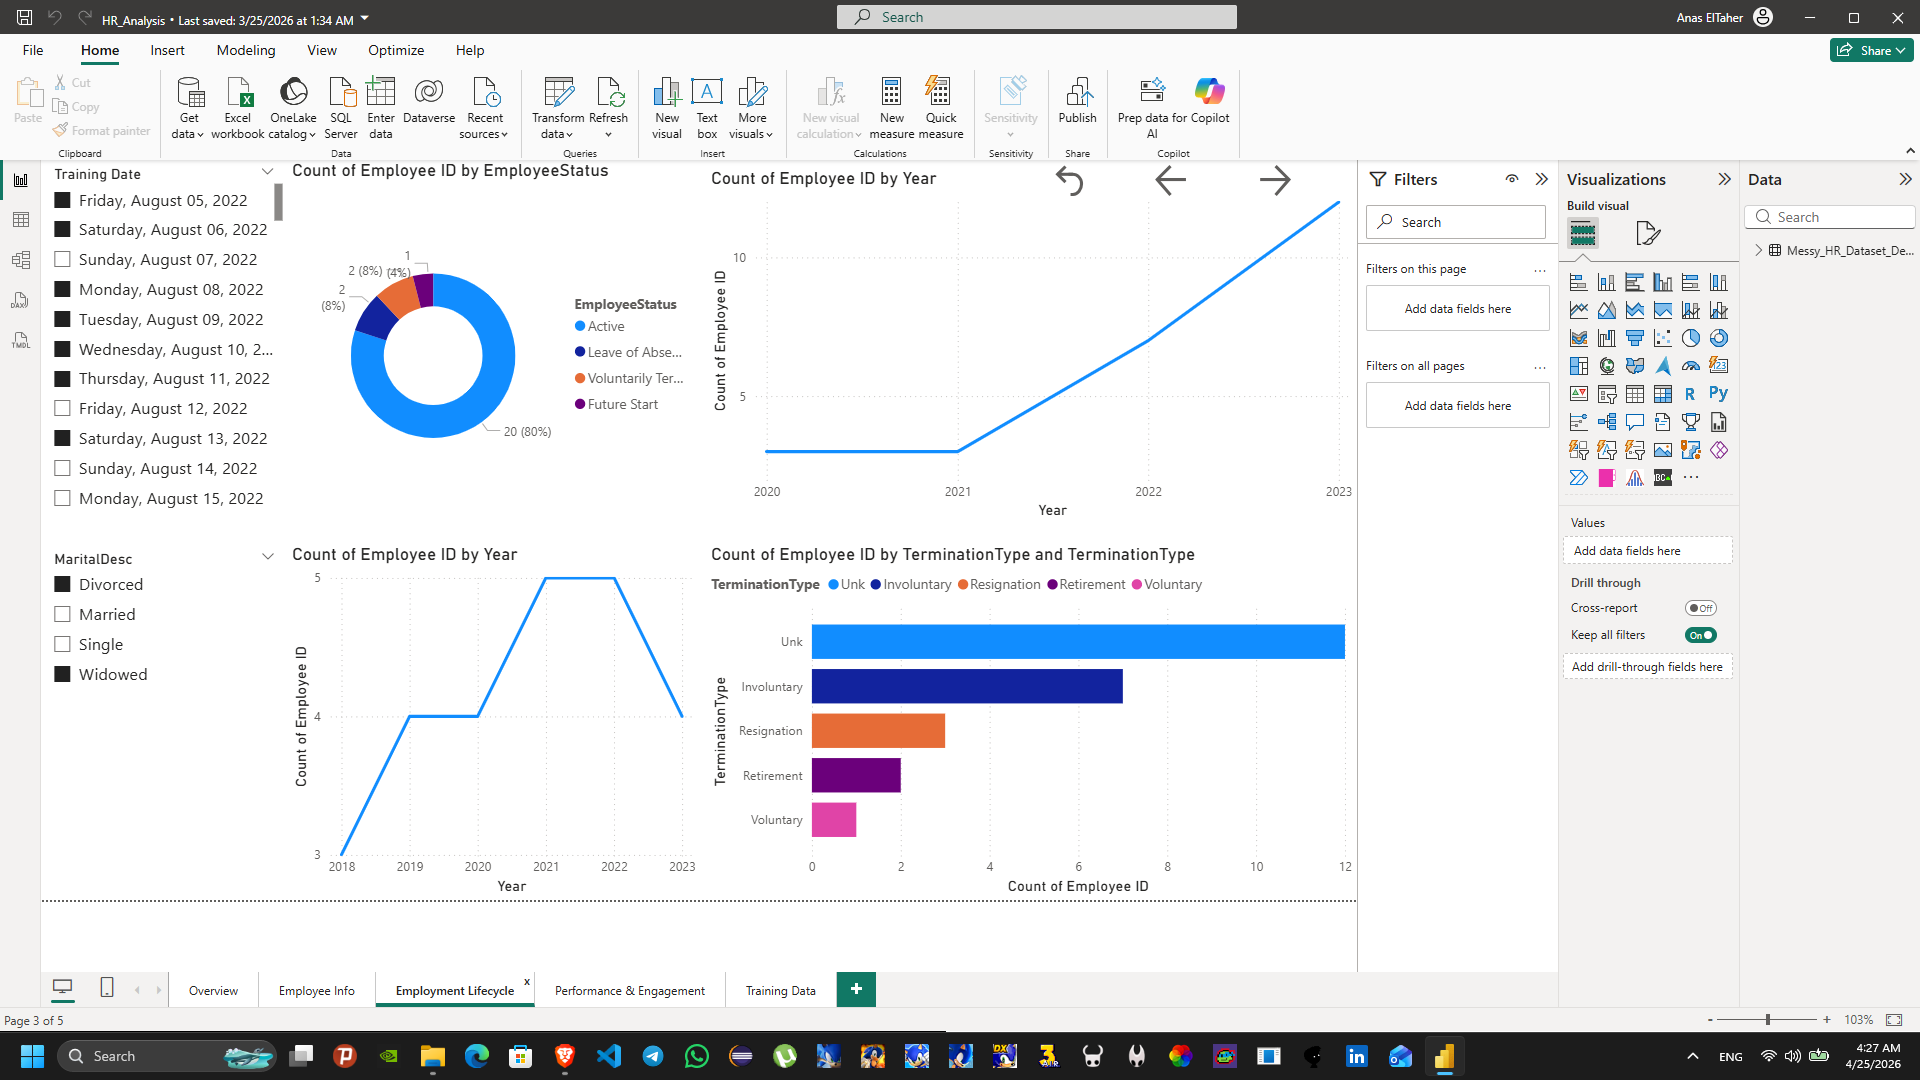

What the dashboard file says about the page in this screenshot:
{"tool":"powerbi","page":{"name":"Employment Lifecycle","canvas":[1280,720],"ordinal":2},"visuals":[{"type":"donutChart","fields":{"Category":["Messy_HR_Dataset_Detailed.EmployeeStatus"],"Y":["CountNonNull(Messy_HR_Dataset_Detailed.Employee ID)"]},"box":[239.7,0,402.3,361.7],"z":0},{"type":"lineChart","fields":{"Category":["Messy_HR_Dataset_Detailed.ExitDate.Variation.Date Hierarchy.Year","Messy_HR_Dataset_Detailed.ExitDate.Variation.Date Hierarchy.Quarter","Messy_HR_Dataset_Detailed.ExitDate.Variation.Date Hierarchy.Month","Messy_HR_Dataset_Detailed.ExitDate.Variation.Date Hierarchy.Day"],"Y":["CountNonNull(Messy_HR_Dataset_Detailed.Employee ID)"]},"box":[646.5,8,633.5,345.8],"z":1},{"type":"lineChart","fields":{"Category":["Messy_HR_Dataset_Detailed.StartDate.Variation.Date Hierarchy.Year","Messy_HR_Dataset_Detailed.StartDate.Variation.Date Hierarchy.Quarter","Messy_HR_Dataset_Detailed.StartDate.Variation.Date Hierarchy.Month","Messy_HR_Dataset_Detailed.StartDate.Variation.Date Hierarchy.Day"],"Y":["CountNonNull(Messy_HR_Dataset_Detailed.Employee ID)"]},"box":[239.7,373.8,402.3,345.4],"z":2},{"type":"barChart","fields":{"Series":["Messy_HR_Dataset_Detailed.TerminationType"],"Category":["Messy_HR_Dataset_Detailed.TerminationType"],"Y":["CountNonNull(Messy_HR_Dataset_Detailed.Employee ID)"]},"box":[646.5,373.9,633.5,345.8],"z":3},{"type":"slicer","fields":{"Values":["Messy_HR_Dataset_Detailed.Training Date"]},"box":[0,0,239.6,353.8],"z":4},{"type":"slicer","fields":{"Values":["Messy_HR_Dataset_Detailed.MaritalDesc"]},"box":[0,374,240,345],"z":5},{"type":"actionButton","box":[1180,0,100,40],"z":6},{"type":"actionButton","box":[1080,0,100,40],"z":7},{"type":"actionButton","box":[980,0,100,40],"z":8}]}

Visuals, with their boxes on the page's 1280x720 design canvas (x1, y1, x2, y2). These are canvas units, not pixel positions in the 1920x1080 screenshot, which may show the page scaled, cropped or inside an application window:
donutChart - Messy_HR_Dataset_Detailed.EmployeeStatus x CountNonNull(Messy_HR_Dataset_Detailed.Employee ID): [240,0,642,362]
lineChart - Messy_HR_Dataset_Detailed.ExitDate.Variation.Date Hierarchy.Year x Messy_HR_Dataset_Detailed.ExitDate.Variation.Date Hierarchy.Quarter: [646,8,1280,354]
lineChart - Messy_HR_Dataset_Detailed.StartDate.Variation.Date Hierarchy.Year x Messy_HR_Dataset_Detailed.StartDate.Variation.Date Hierarchy.Quarter: [240,374,642,719]
barChart - Messy_HR_Dataset_Detailed.TerminationType x Messy_HR_Dataset_Detailed.TerminationType: [646,374,1280,720]
slicer - Messy_HR_Dataset_Detailed.Training Date: [0,0,240,354]
slicer - Messy_HR_Dataset_Detailed.MaritalDesc: [0,374,240,719]
actionButton: [1180,0,1280,40]
actionButton: [1080,0,1180,40]
actionButton: [980,0,1080,40]
